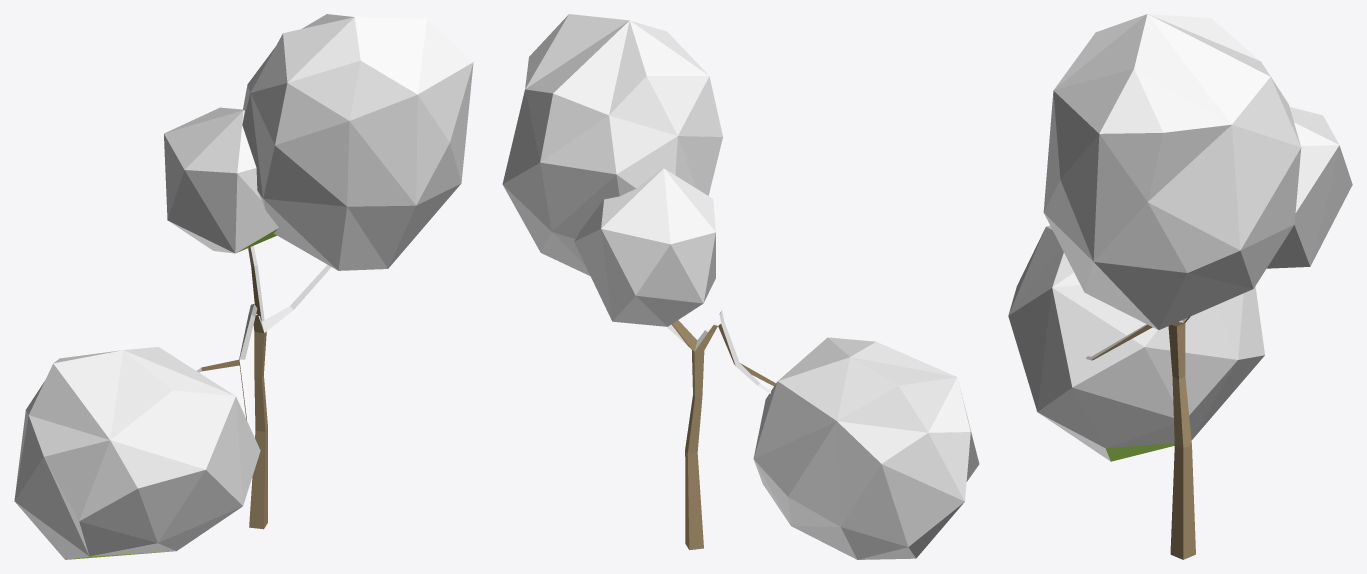
The model's file is Apple_Tree_crk_s_Snow_02_LOD.fbx.
3 renders of one model, left to right at view 1: azimuth 30°, elevation 25°; view 2: azimuth 150°, elevation 25°; view 3: azimuth 270°, elevation 25°, orthographic. The views are drawn at different scales.
Parts seen in each view (by area): view 1: Apple_Tree_crk_s_Snow_02_LOD0; view 2: Apple_Tree_crk_s_Snow_02_LOD0; view 3: Apple_Tree_crk_s_Snow_02_LOD0.
Part boxes in pixels (left/top/right/bottom): Apple_Tree_crk_s_Snow_02_LOD0: left=14, top=14, right=473, bottom=559; Apple_Tree_crk_s_Snow_02_LOD0: left=502, top=14, right=979, bottom=559; Apple_Tree_crk_s_Snow_02_LOD0: left=1008, top=14, right=1352, bottom=559.
Size of what is drawn, in the model's own units: 279 by 304 by 162.
